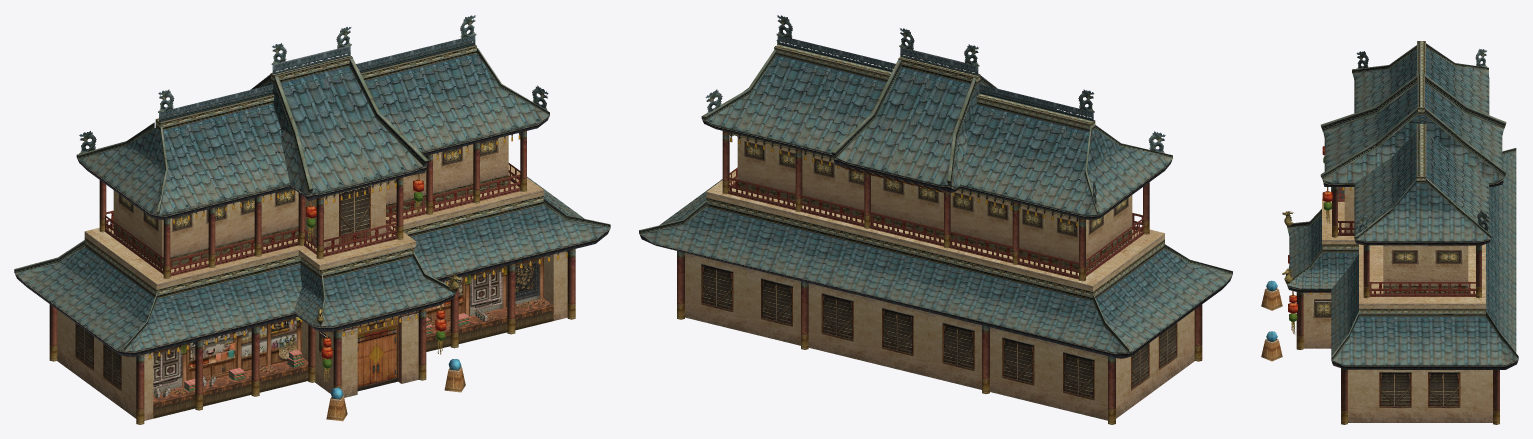
Rendered from w_cd_luxu.glb.
3 renders of one model, left to right at view 1: azimuth 30°, elevation 25°; view 2: azimuth 150°, elevation 25°; view 3: azimuth 270°, elevation 25°, orthographic. The views are drawn at different scales.
Visible parts, largest first — view 1: w_cd_luxu_roof, w_cd_luxu_wall, w_cd_luxu_column, w_cd_luxu_ornament02, w_cd_luxu_deco, w_cd_luxu_ornament, w_cd_luxu_handrail, w_cd_luxu_roof02, w_cd_luxu_winlight, w_cd_luxu_light; view 2: w_cd_luxu_roof, w_cd_luxu_wall, w_cd_luxu_handrail, w_cd_luxu_deco, w_cd_luxu_column, w_cd_luxu_roof02, w_cd_luxu_winlight; view 3: w_cd_luxu_roof, w_cd_luxu_wall, w_cd_luxu_column, w_cd_luxu_handrail, w_cd_luxu_deco, w_cd_luxu_winlight, w_cd_luxu_roof02, w_cd_luxu_light.
Boxes of the visible parts, box(x1,y1,x2,y2) form: w_cd_luxu_roof: box(14, 42, 610, 357); w_cd_luxu_wall: box(57, 135, 567, 420); w_cd_luxu_column: box(49, 131, 575, 424); w_cd_luxu_ornament02: box(153, 256, 543, 393); w_cd_luxu_deco: box(105, 132, 567, 358); w_cd_luxu_ornament: box(153, 298, 553, 418); w_cd_luxu_handrail: box(75, 186, 398, 391); w_cd_luxu_roof02: box(79, 15, 548, 203); w_cd_luxu_winlight: box(119, 139, 496, 350); w_cd_luxu_light: box(305, 174, 446, 381); w_cd_luxu_roof: box(639, 44, 1232, 358); w_cd_luxu_wall: box(685, 137, 1194, 420); w_cd_luxu_handrail: box(701, 263, 1177, 400); w_cd_luxu_deco: box(728, 132, 1144, 279); w_cd_luxu_column: box(677, 131, 1202, 424); w_cd_luxu_roof02: box(705, 15, 1165, 209); w_cd_luxu_winlight: box(745, 142, 1127, 235); w_cd_luxu_roof: box(1287, 41, 1518, 369); w_cd_luxu_wall: box(1303, 187, 1492, 422); w_cd_luxu_column: box(1261, 187, 1499, 424); w_cd_luxu_handrail: box(1379, 371, 1460, 407); w_cd_luxu_deco: box(1282, 187, 1475, 296); w_cd_luxu_winlight: box(1314, 251, 1460, 316); w_cd_luxu_roof02: box(1356, 49, 1489, 234); w_cd_luxu_light: box(1288, 146, 1332, 334).
Size of the model in its own units: 42.67 by 25.28 by 22.07.
11 materials, 11 textured.
